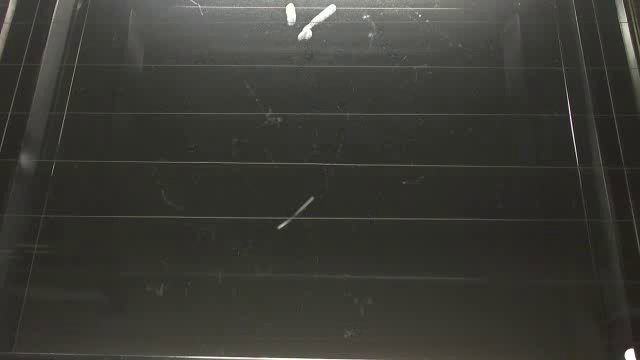Alfa: (298, 4, 340, 43), (279, 197, 315, 227), (280, 1, 299, 25)
